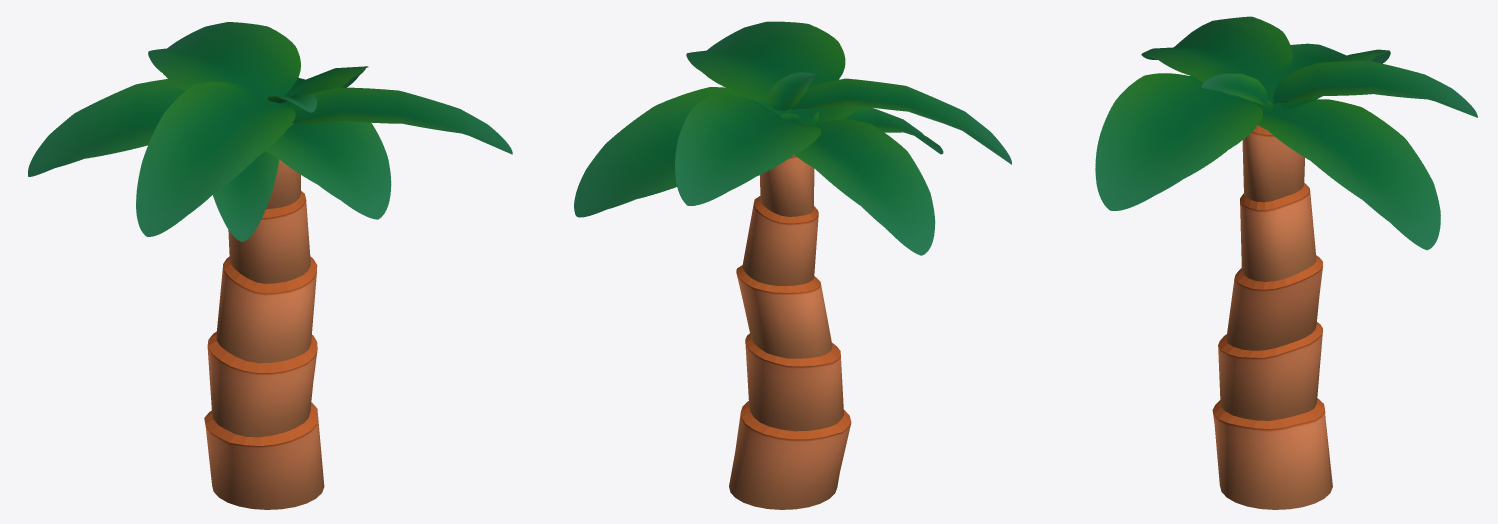
File: Tree_1c.fbx
3 renders of one model, left to right at view 1: azimuth 30°, elevation 25°; view 2: azimuth 150°, elevation 25°; view 3: azimuth 270°, elevation 25°, orthographic. The views are drawn at different scales.
Visible parts, largest first — view 1: Tree_1c; view 2: Tree_1c; view 3: Tree_1c.
Boxes of the visible parts, x1,y1,x2,y2 form: Tree_1c: [28, 22, 512, 509]; Tree_1c: [574, 21, 1011, 509]; Tree_1c: [1095, 16, 1477, 509].
Bounding box in the file's own units: 64.34 × 61.82 × 58.11.
